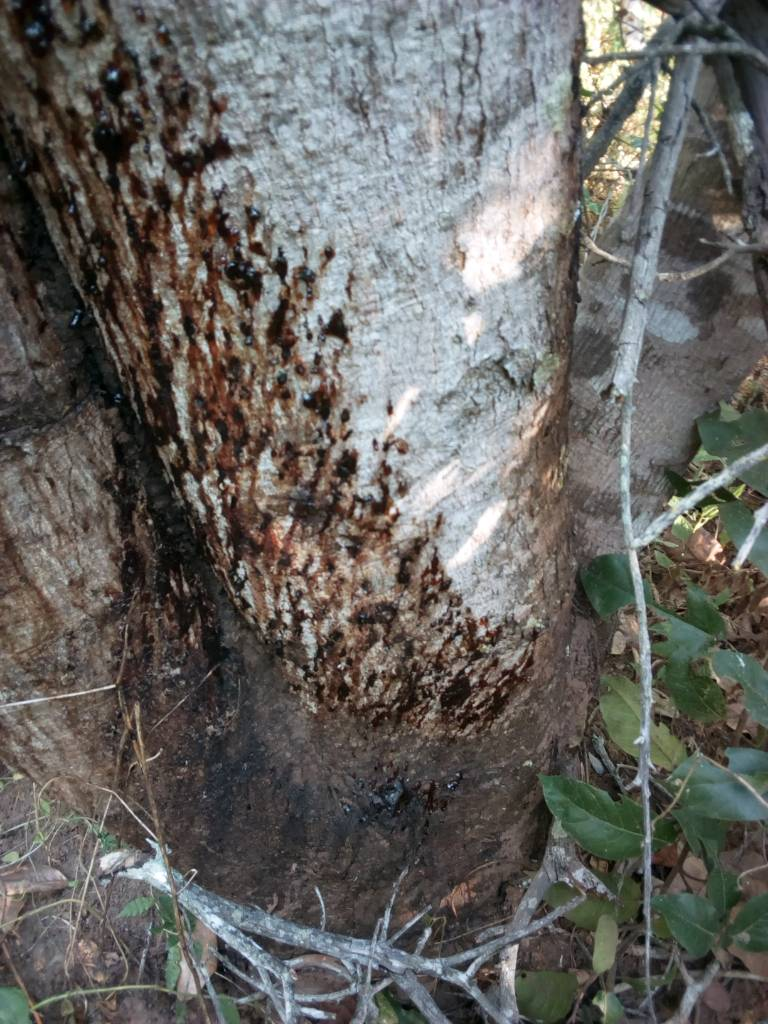Gommose: (19, 5, 443, 863)
